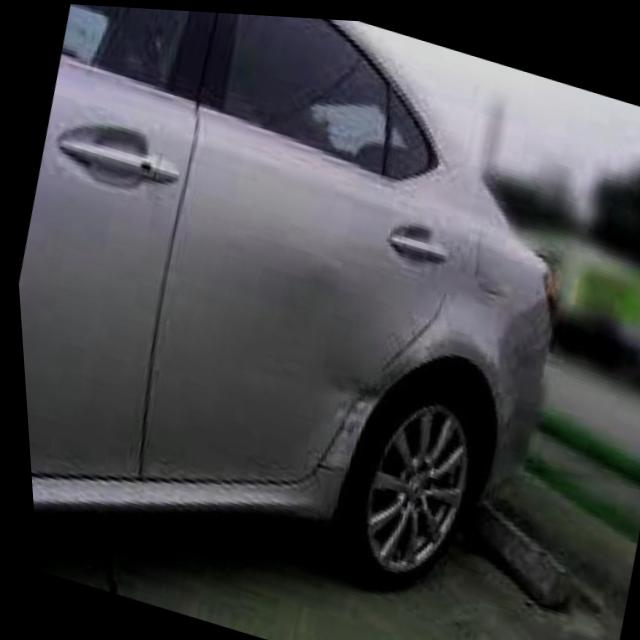Car-Damage: (252, 224, 427, 508)
